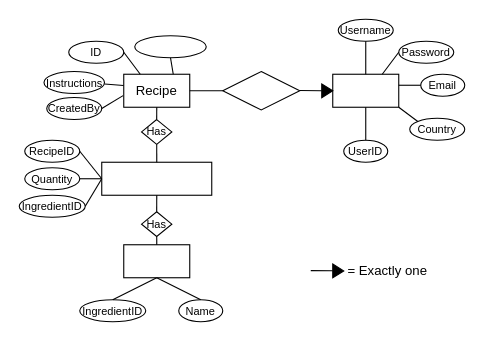
Some shapes in this 484 by 341 pixel diagram are drawn without their labels. The centre of each missing label's shape, as x and y in pixels:
CookingTime: the point at 170,46
Created by: the point at 261,90
Ingredient: the point at 156,261
RecipeIngredient: the point at 156,178
User: the point at 365,90
